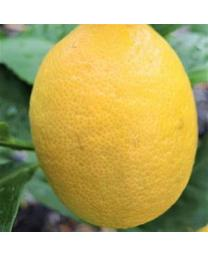lemon: (30, 25, 198, 229)
